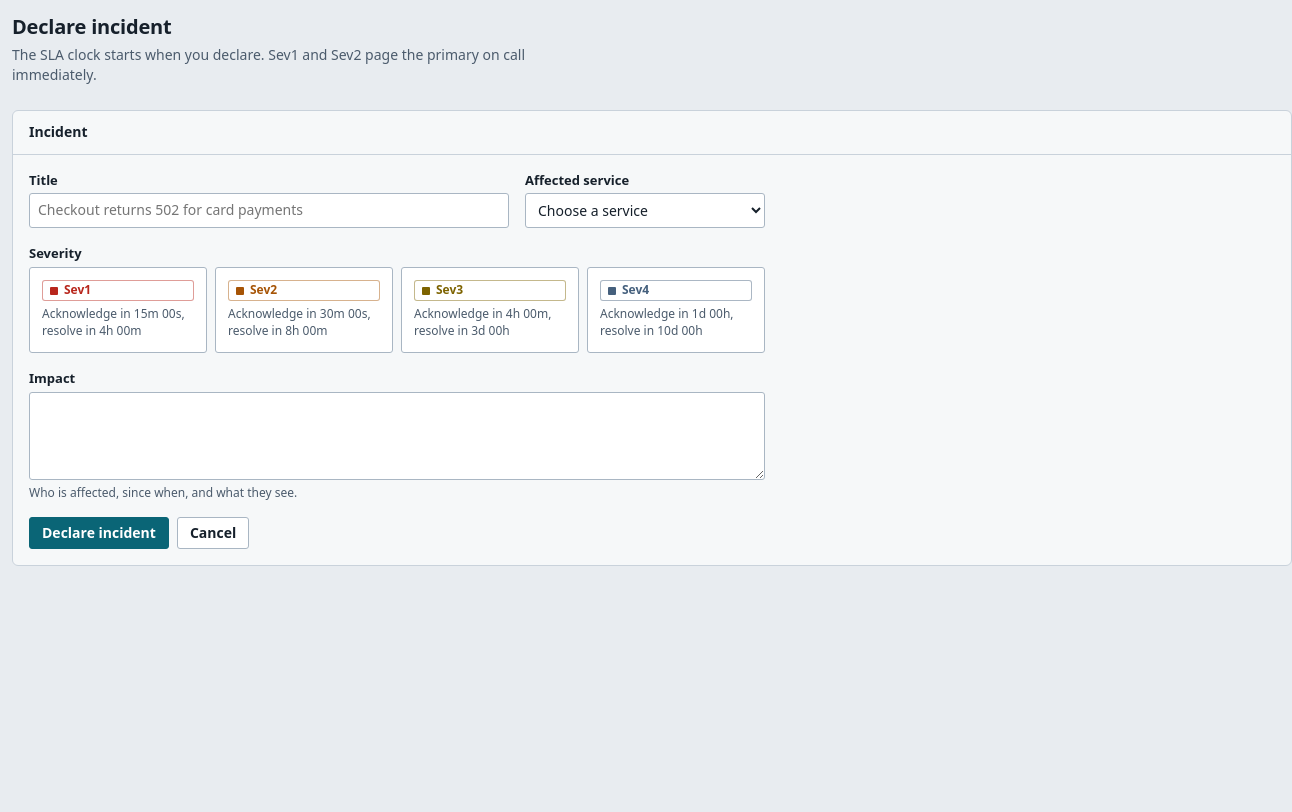
Test case: DeclareIncidentPage › declares the incident and opens it
The image size is (1292, 812).
Type "Search results empty for all queries" into the field labelled "Title".
click(269, 211); type("Search results empty for all queries")  # box [29,193,509,228]
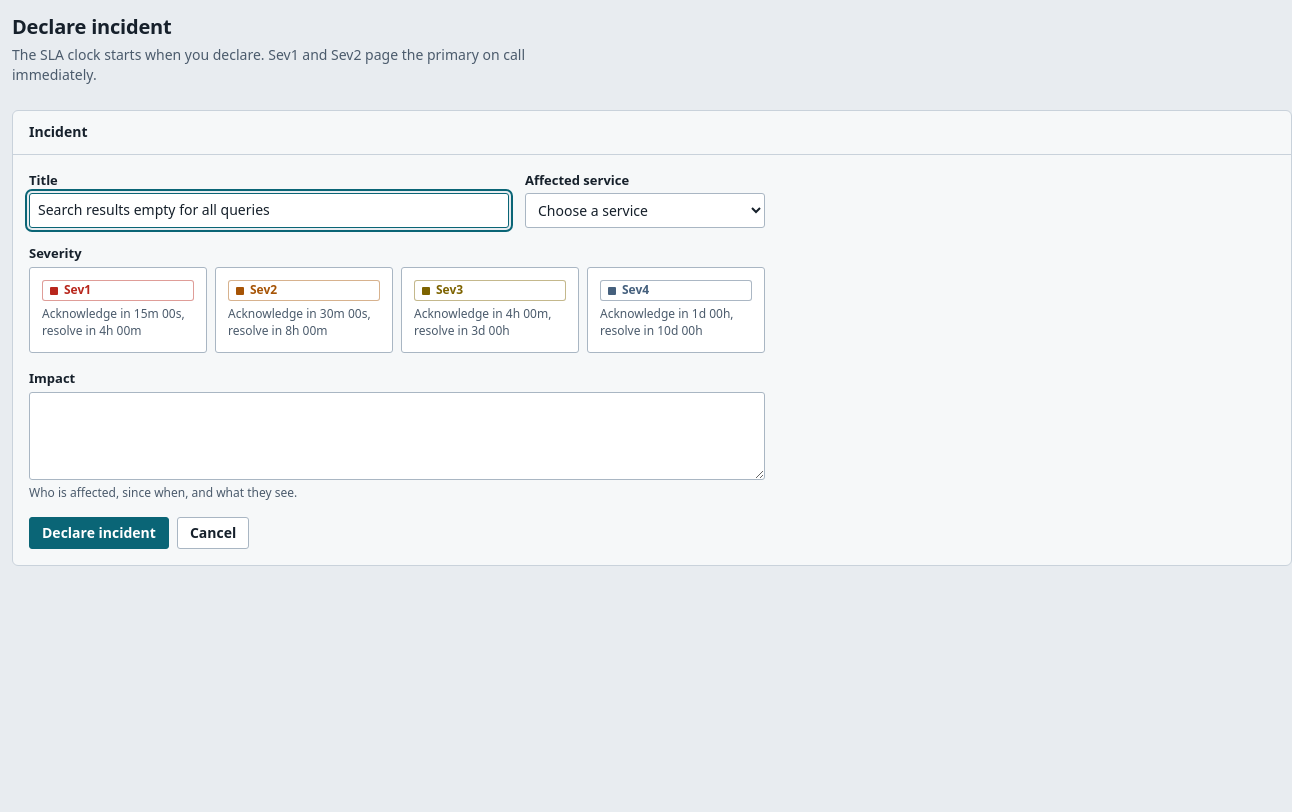
Select "Search" in the dropdown labelled "Affected service" at (645, 211), box [525,193,765,228]
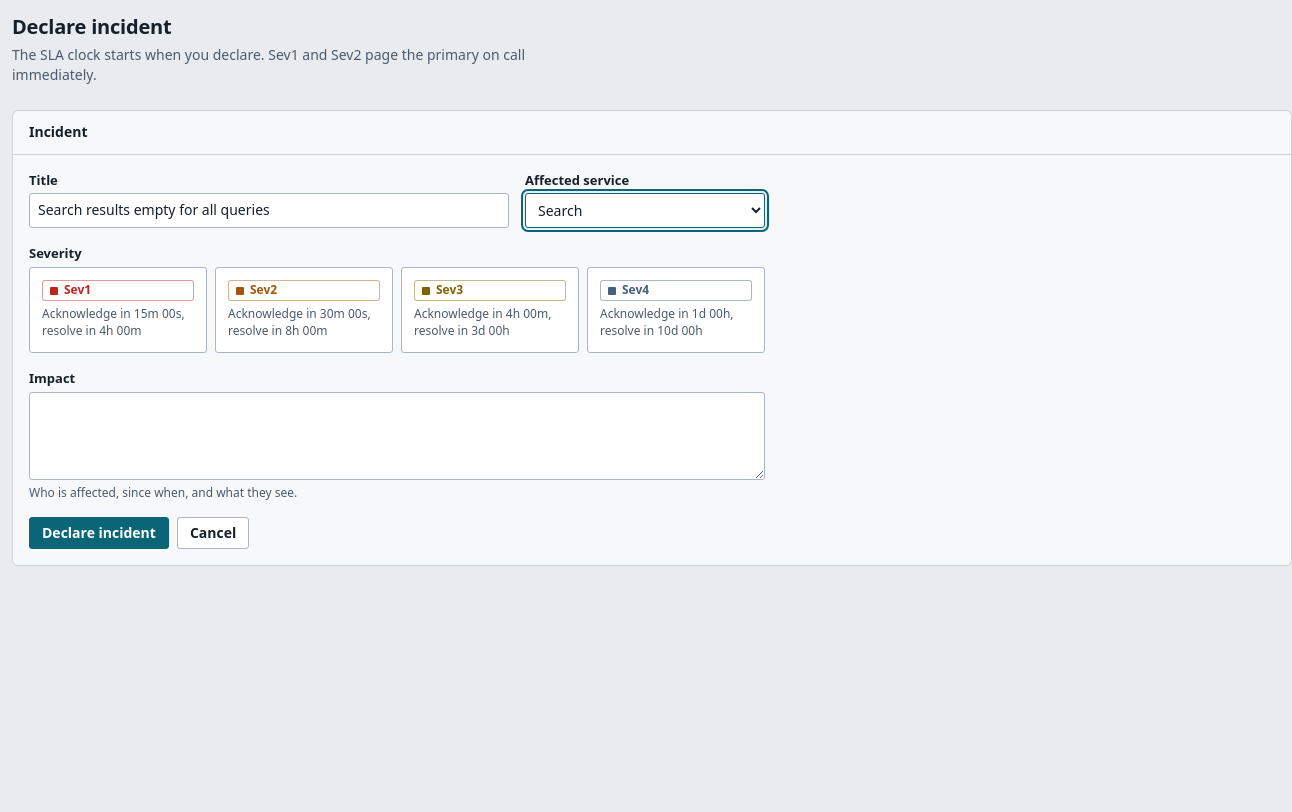
Click the radio button labelled "Sev2 Acknowledge in 30m 00s, resolve in 8h 00m".
click(304, 310)  # box [215,267,393,353]
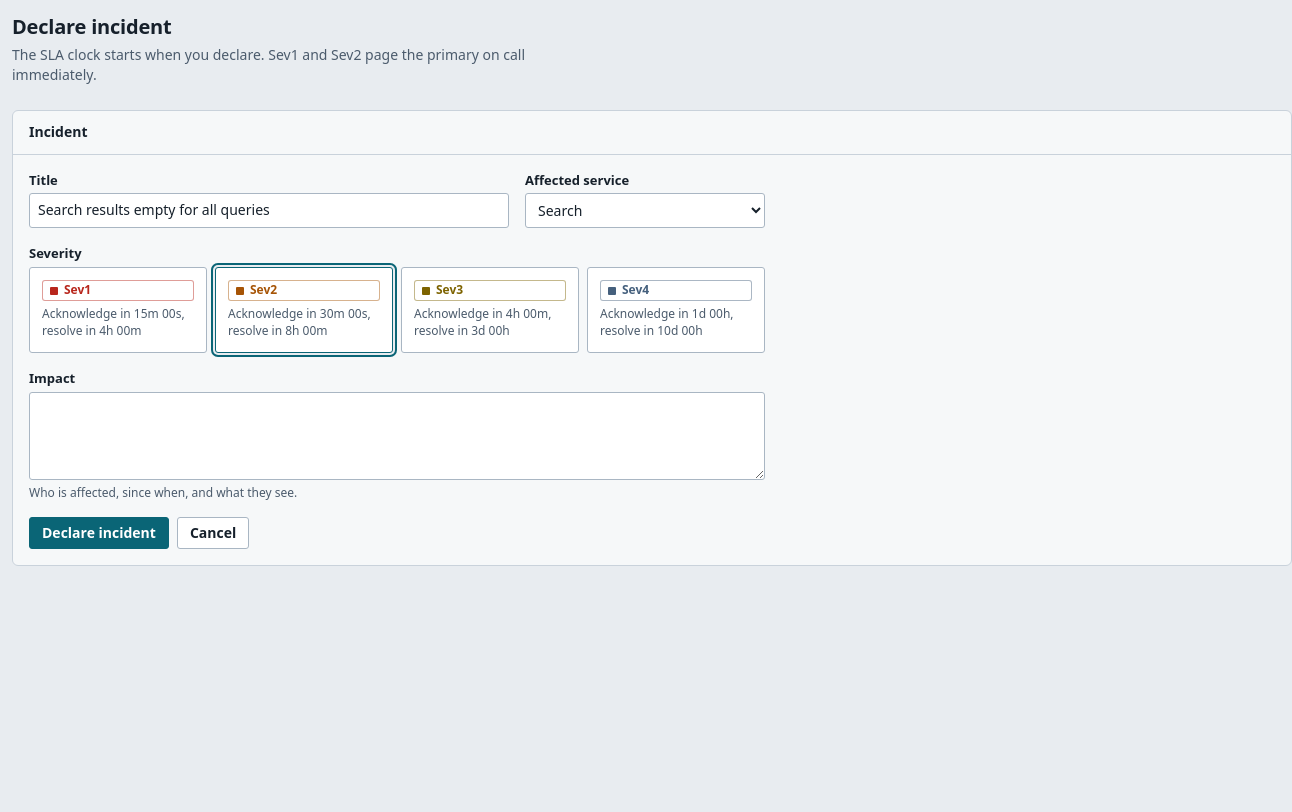
Type "Every query returns zero results since 12:40 UTC." into the text box labelled "Impact".
click(397, 436); type("Every query returns zero results since 12:40 UTC.")  # box [29,392,765,480]
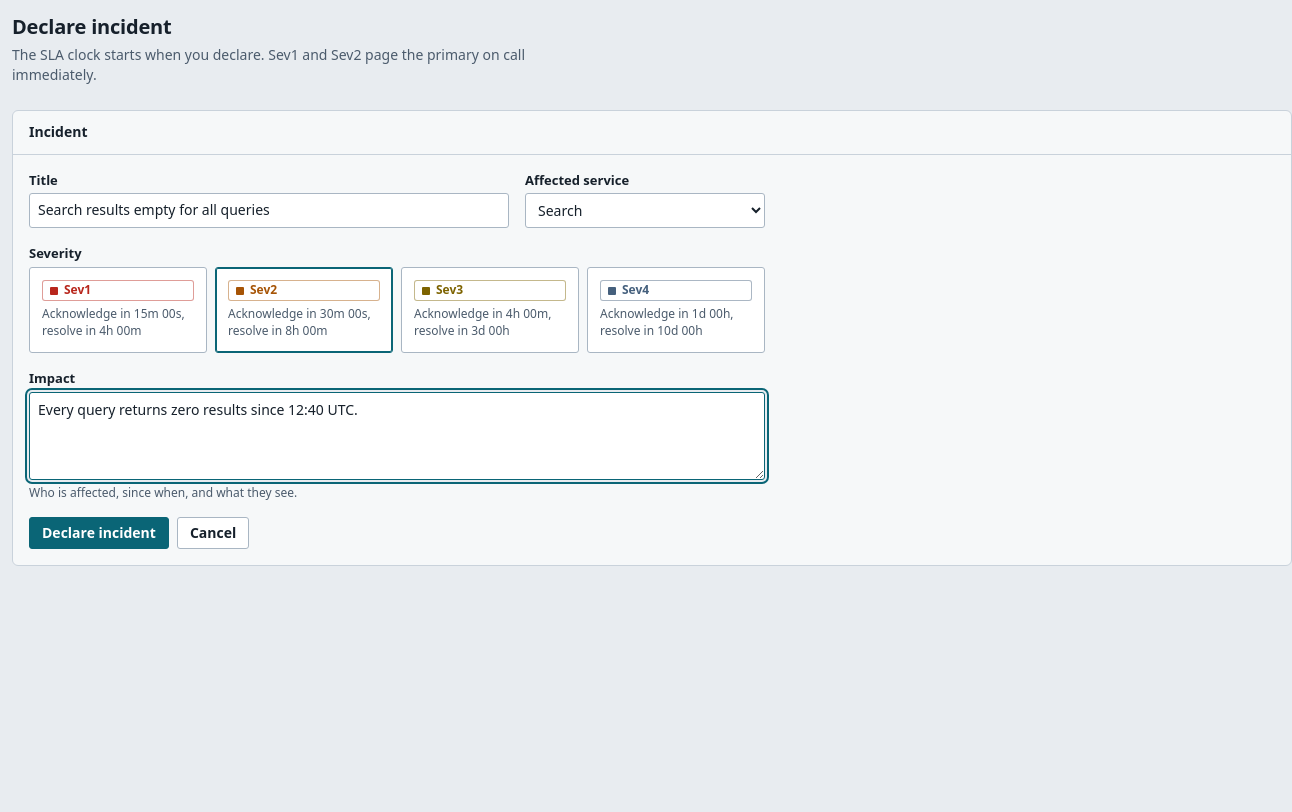
Click the button "Declare incident".
click(99, 533)  # box [29,517,169,549]
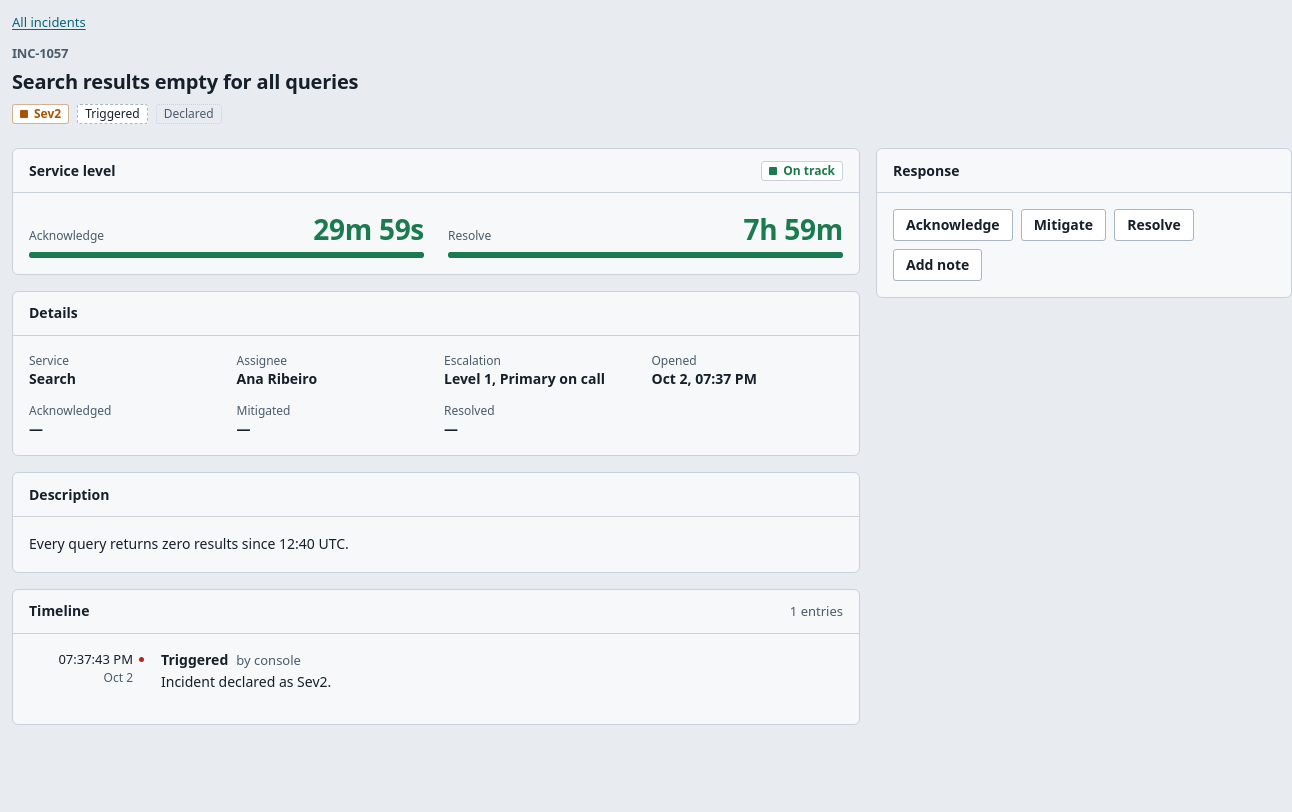
Expected: the heading "INC-1057 Search results empty for all queries" is shown, [12,44,358,96]
Expected: the text "INC-1057" is shown, [12,44,68,62]
